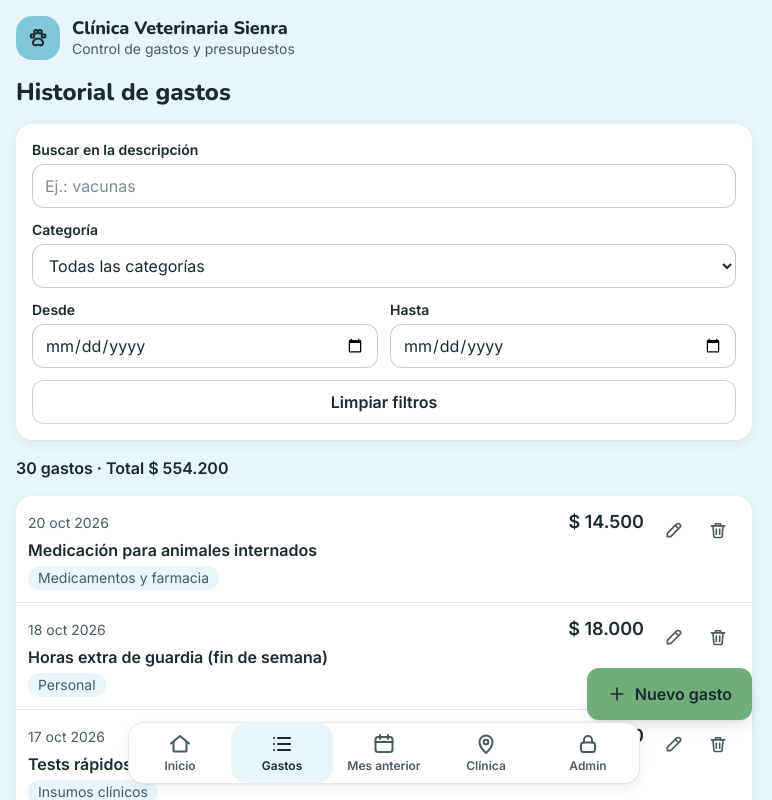
Scenario: History › explains when nothing matches and offers to clear the filters
In the search field labelled "Buscar en la descripción": [384, 186] box x1=32 y1=164 x2=736 y2=208, type "zzzz"
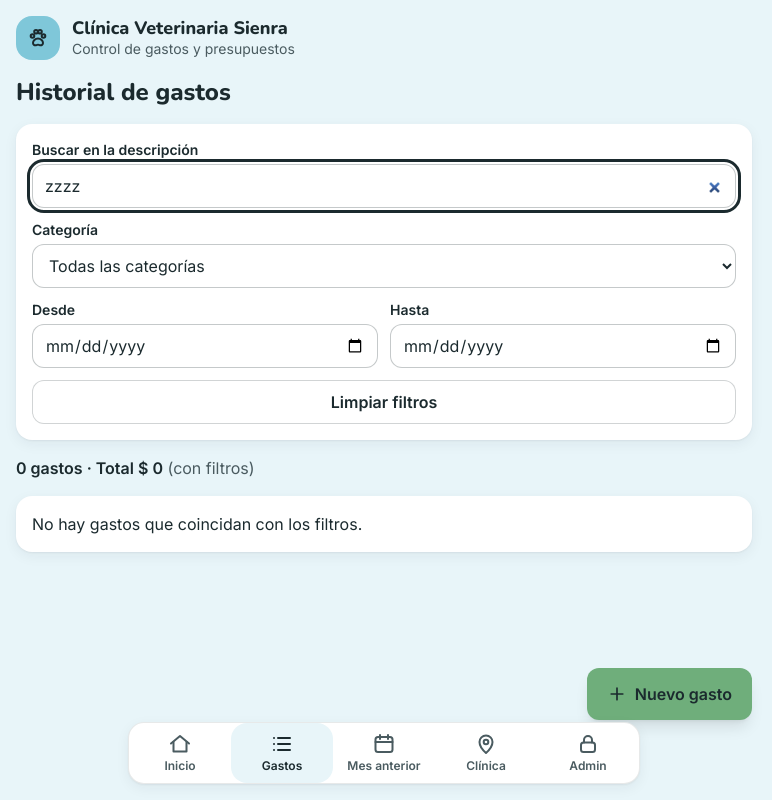
Expected: the element with test id "history-summary" shows "0 gastos", x1=16 y1=458 x2=255 y2=478
Expected: the text "No hay gastos que coincidan con los filtros." is shown, x1=16 y1=496 x2=752 y2=552
